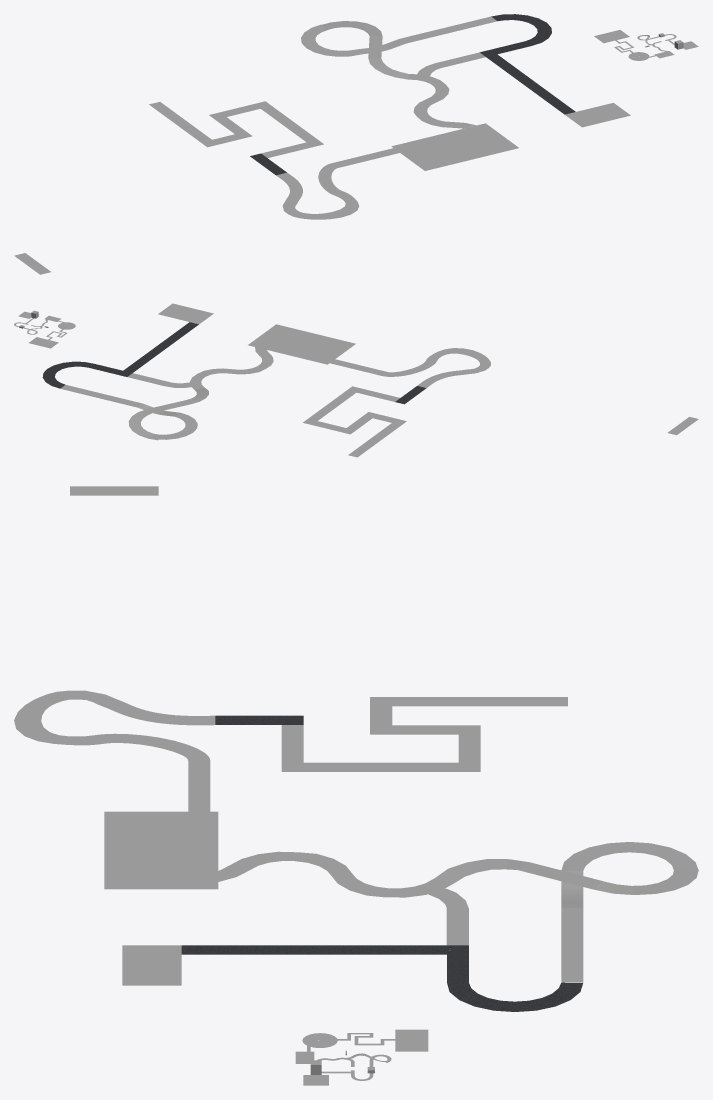
Rendered from Untextured map.fbx.
The picture shows the model from 3 angles, top to bottom: view 1: azimuth 30°, elevation 25°; view 2: azimuth 150°, elevation 25°; view 3: azimuth 270°, elevation 25°; orthographic projection. The views are drawn at different scales.
Parts seen in each view (by area): view 1: pPlane34, pPlane50, pPlane36, pSphere15, pSphere14, pPlane35, pSphere17, pPlane37; view 2: pPlane34, pPlane50, pPlane36, pSphere15, pSphere14, pPlane35, pSphere17, pPlane37; view 3: pPlane34, pPlane50, pPlane36, pSphere15, pSphere14, pPlane35, pSphere17, pPlane37, pSphere18.
Boxes of the visible parts, x1=… form: pPlane34: x1=391, y1=123, x2=518, y2=170; pPlane50: x1=565, y1=103, x2=630, y2=127; pPlane36: x1=282, y1=191, x2=359, y2=219; pSphere15: x1=491, y1=14, x2=551, y2=45; pSphere14: x1=301, y1=25, x2=360, y2=56; pPlane35: x1=318, y1=159, x2=354, y2=195; pSphere17: x1=322, y1=21, x2=382, y2=36; pPlane37: x1=276, y1=172, x2=302, y2=202; pPlane34: x1=248, y1=324, x2=355, y2=364; pPlane50: x1=158, y1=303, x2=213, y2=324; pPlane36: x1=426, y1=348, x2=490, y2=373; pSphere15: x1=42, y1=361, x2=93, y2=388; pSphere14: x1=159, y1=413, x2=197, y2=439; pPlane35: x1=368, y1=360, x2=436, y2=376; pSphere17: x1=128, y1=409, x2=157, y2=440; pPlane37: x1=417, y1=369, x2=468, y2=387; pPlane34: x1=104, y1=811, x2=218, y2=889; pPlane50: x1=122, y1=945, x2=181, y2=985; pPlane36: x1=14, y1=690, x2=115, y2=745; pSphere15: x1=447, y1=982, x2=582, y2=1011; pSphere14: x1=561, y1=842, x2=698, y2=870; pPlane35: x1=95, y1=733, x2=210, y2=774; pSphere17: x1=593, y1=866, x2=697, y2=894; pPlane37: x1=101, y1=699, x2=215, y2=725; pSphere18: x1=435, y1=859, x2=528, y2=882.
Size of the model in its own units: 385 by 4.1 by 186.
